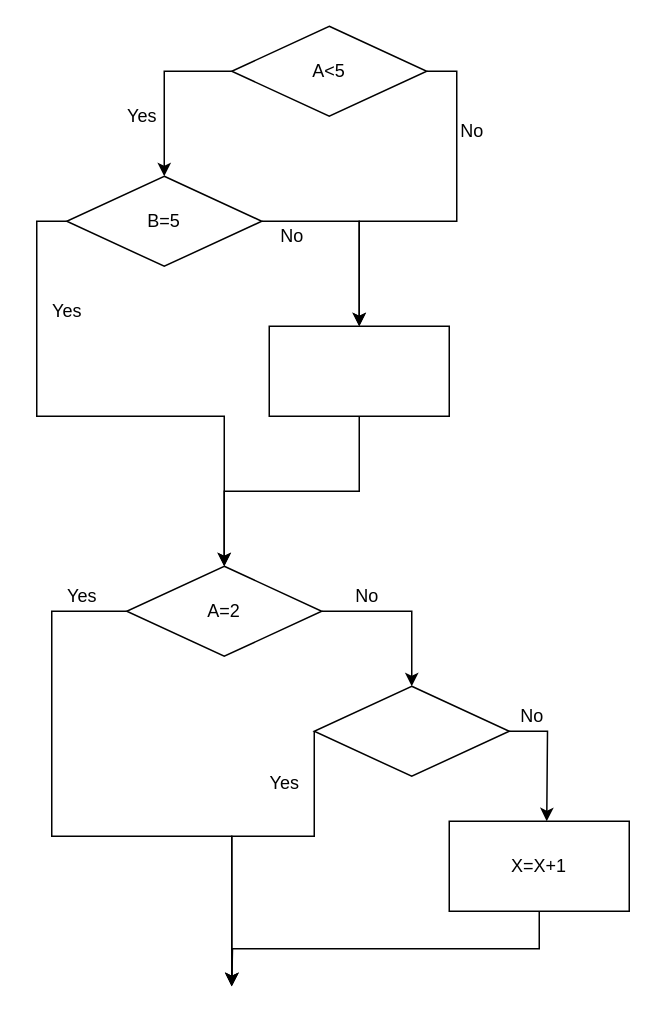
The diagram is 656 pixels wide and 1025 high, and some of its shapes have lost their labels. The box of each missing label's shape, as (x1, y1, x2, y2) in pixels:
X=X/A: (268, 325, 449, 416)
X>2: (313, 685, 509, 776)
